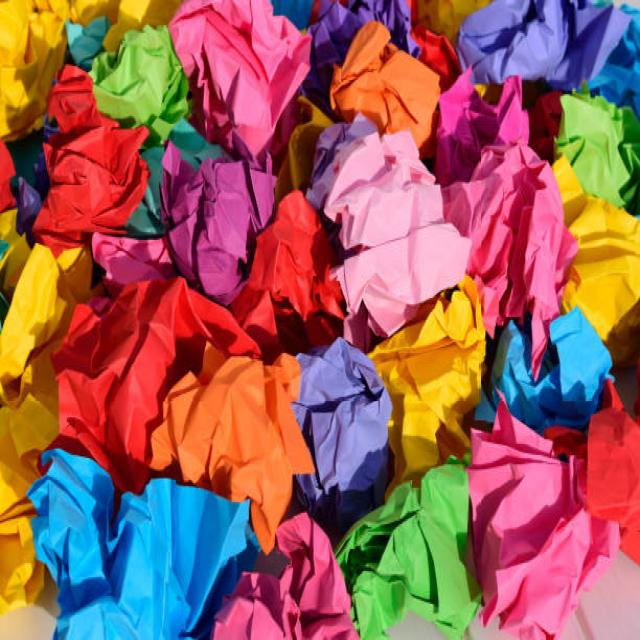electronic: (167, 0, 312, 162)
